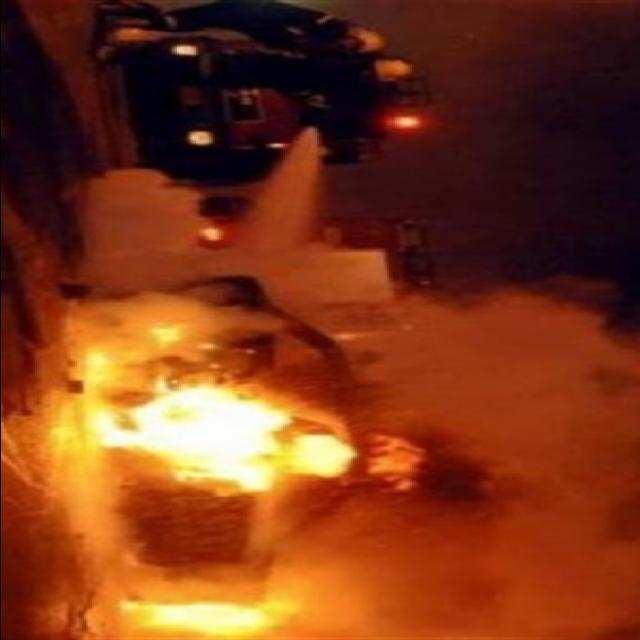Fire: (68, 307, 428, 640)
